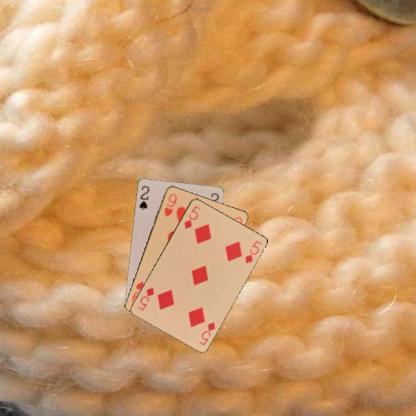2s: (136, 183, 150, 211)
5d: (181, 203, 202, 230), (196, 319, 217, 346)
9h: (161, 190, 178, 218)
